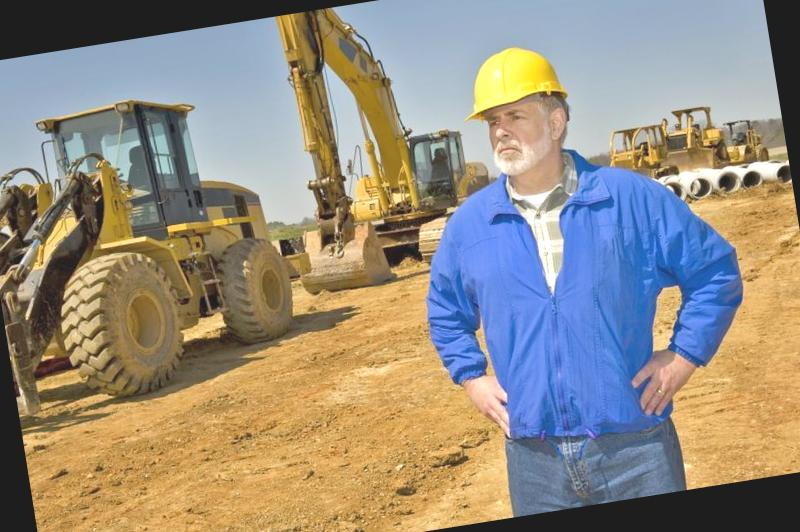helmet: (453, 33, 582, 128)
person: (372, 14, 728, 526)
